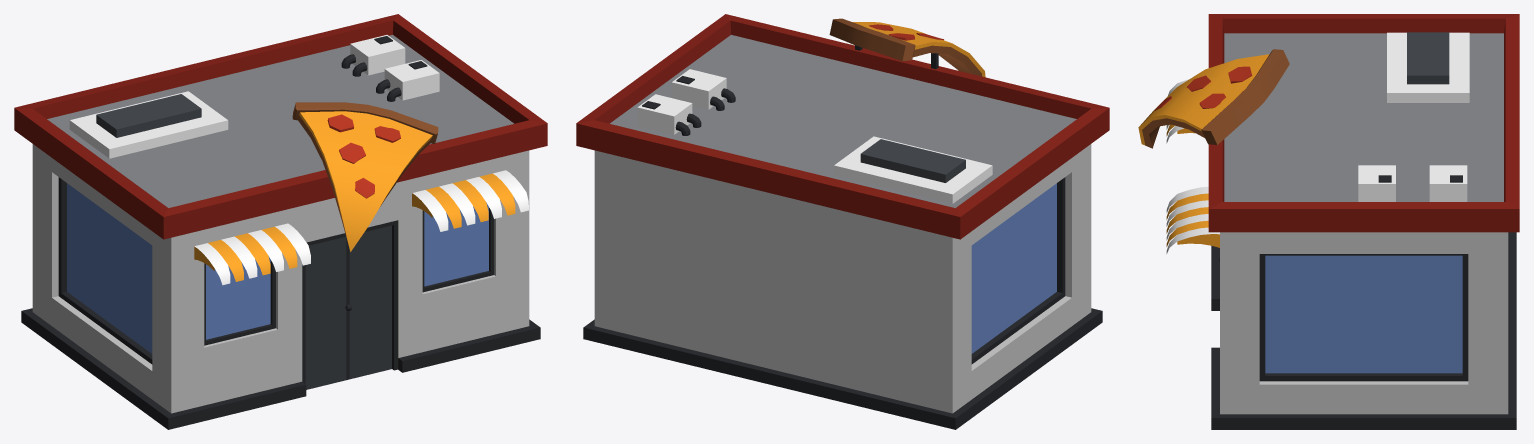
Rendered from Pizza Place_1.fbx.
The picture shows the model from 3 angles, left to right: view 1: azimuth 30°, elevation 25°; view 2: azimuth 150°, elevation 25°; view 3: azimuth 270°, elevation 25°; orthographic projection. The views are drawn at different scales.
Parts seen in each view (by area): view 1: Pizza Place_1; view 2: Pizza Place_1; view 3: Pizza Place_1.
Boxes of the visible parts, left/top/right/bottom form: Pizza Place_1: left=14, top=14, right=547, bottom=429; Pizza Place_1: left=576, top=14, right=1109, bottom=429; Pizza Place_1: left=1138, top=14, right=1519, bottom=429.
Bounding box in the file's own units: 1179 × 770 × 973.
